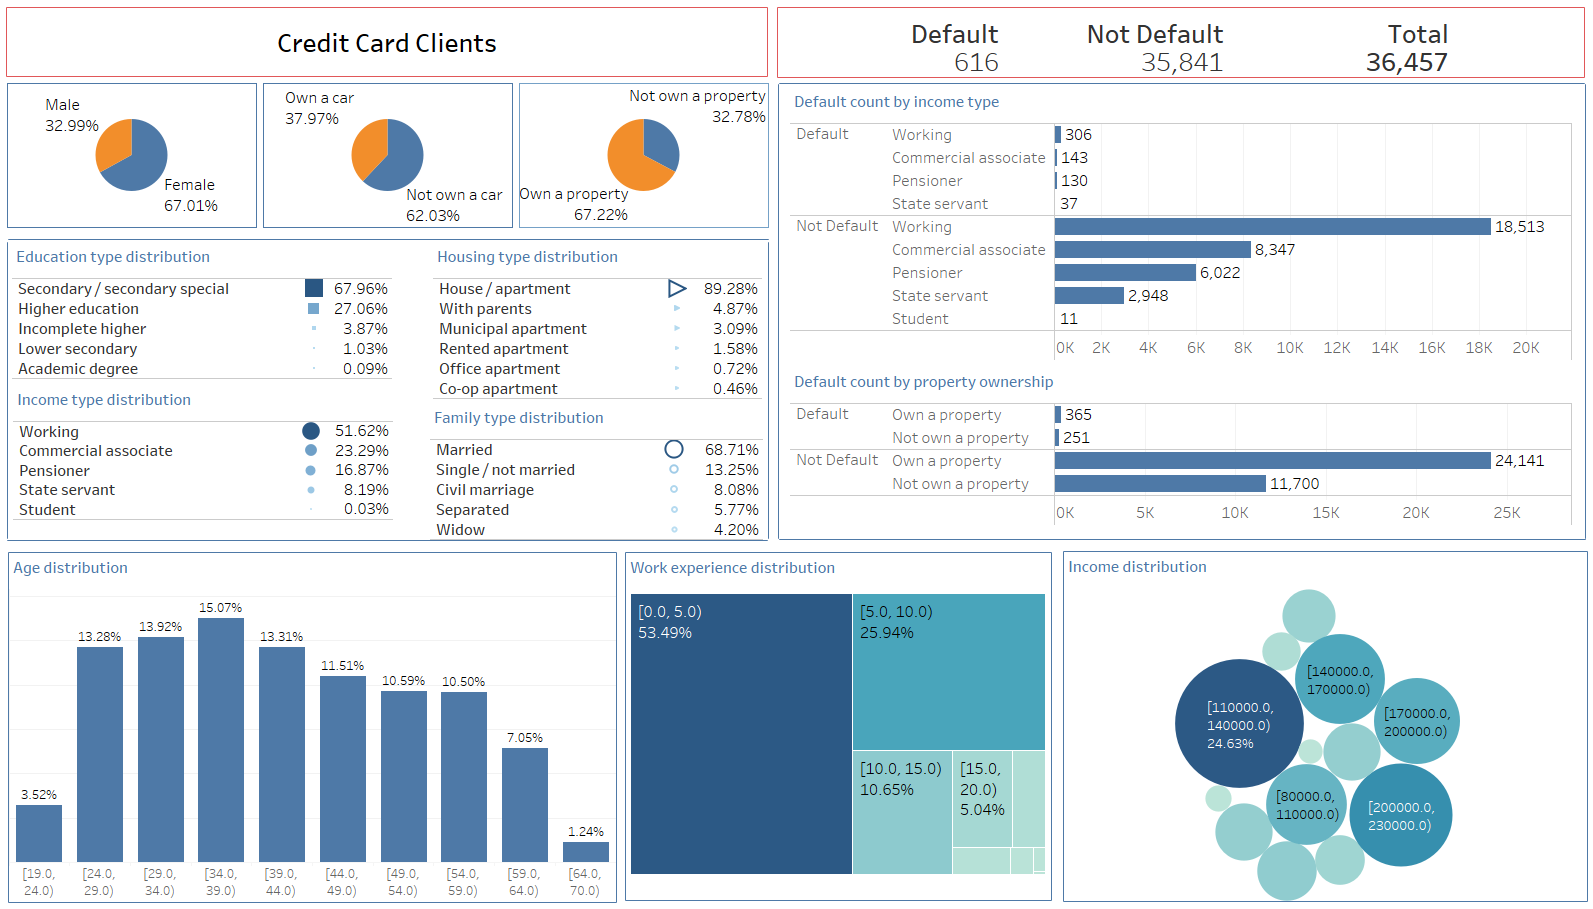

This screenshot's page, from the dashboard's own definition file:
{"tool":"tableau","page":{"name":"Dashboard 1","canvas":[1600,900],"ordinal":0},"visuals":[{"type":"text","box":[13,4,762,70]},{"type":"worksheet","title":"default_count","mark":"Automatic","cols":["Calculation_1281837100111704067"],"box":[784,4,808,71]},{"type":"worksheet","title":"gender","mark":"Pie","box":[14,65,250,160]},{"type":"worksheet","title":" car","mark":"Pie","box":[270,65,250,160]},{"type":"worksheet","title":"property","mark":"Pie","box":[526,65,250,160]},{"type":"blank","box":[786,80,806,1]},{"type":"blank","box":[785,81,1,455]},{"type":"blank","box":[1592,81,1,455]},{"type":"worksheet","title":"default_icome","mark":"Automatic","rows":["Calculation_1281837100111704067","income_type"],"cols":["income_type"],"box":[797,84,783,283]},{"type":"blank","box":[15,236,761,1]},{"type":"blank","box":[14,239,1,297]},{"type":"worksheet","title":"education","mark":"Automatic","rows":["education_type"],"box":[19,239,396,145]},{"type":"worksheet","title":"house","mark":"Shape","rows":["housing_type"],"box":[440,239,330,159]},{"type":"blank","box":[775,239,1,297]},{"type":"blank","box":[25,246,806,2]},{"type":"worksheet","title":"default_property","mark":"Automatic","rows":["Calculation_1281837100111704067","Calculation_1281837100106051586"],"cols":["Calculation_1281837100106051586"],"box":[797,364,782,168]},{"type":"worksheet","title":"income","mark":"Circle","rows":["income_type"],"box":[20,382,380,135]},{"type":"worksheet","title":"family","mark":"Shape","rows":["family_type"],"box":[437,400,337,147]},{"type":"blank","box":[786,536,807,1]},{"type":"blank","box":[14,537,761,1]},{"type":"worksheet","title":"incomebins","mark":"Circle","box":[1070,548,525,351]},{"type":"worksheet","title":"agebins","mark":"Automatic","rows":["ageBins"],"cols":["ageBins"],"box":[15,549,609,351]},{"type":"worksheet","title":"jobbins","mark":"Automatic","box":[632,549,427,349]}]}

Visuals, with their boxes in screenshot pixels (x1, y1, x2, y2), scaled from the page's 1600x900 canvas onto the 1593x909 screenshot:
text: locate(13, 4, 772, 75)
"default_count" worksheet: locate(781, 4, 1585, 76)
"gender" worksheet (Pie marks): locate(14, 66, 263, 227)
" car" worksheet (Pie marks): locate(269, 66, 518, 227)
"property" worksheet (Pie marks): locate(524, 66, 773, 227)
blank: locate(783, 81, 1585, 82)
blank: locate(782, 82, 783, 541)
blank: locate(1585, 82, 1586, 541)
"default_icome" worksheet: locate(794, 85, 1573, 371)
blank: locate(15, 238, 773, 239)
blank: locate(14, 241, 15, 541)
"education" worksheet: locate(19, 241, 413, 388)
"house" worksheet (Shape marks): locate(438, 241, 767, 402)
blank: locate(772, 241, 773, 541)
blank: locate(25, 248, 827, 250)
"default_property" worksheet: locate(794, 368, 1572, 537)
"income" worksheet (Circle marks): locate(20, 386, 398, 522)
"family" worksheet (Shape marks): locate(435, 404, 771, 552)
blank: locate(783, 541, 1586, 542)
blank: locate(14, 542, 772, 543)
"incomebins" worksheet (Circle marks): locate(1065, 553, 1588, 908)
"agebins" worksheet: locate(15, 554, 621, 908)
"jobbins" worksheet: locate(629, 554, 1054, 907)
